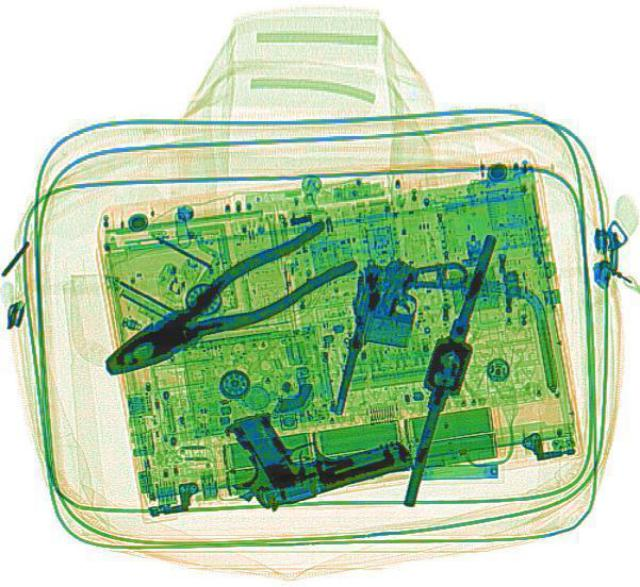Gun: (322, 244, 470, 429), (215, 376, 415, 512)
Pliers: (84, 213, 360, 396)
